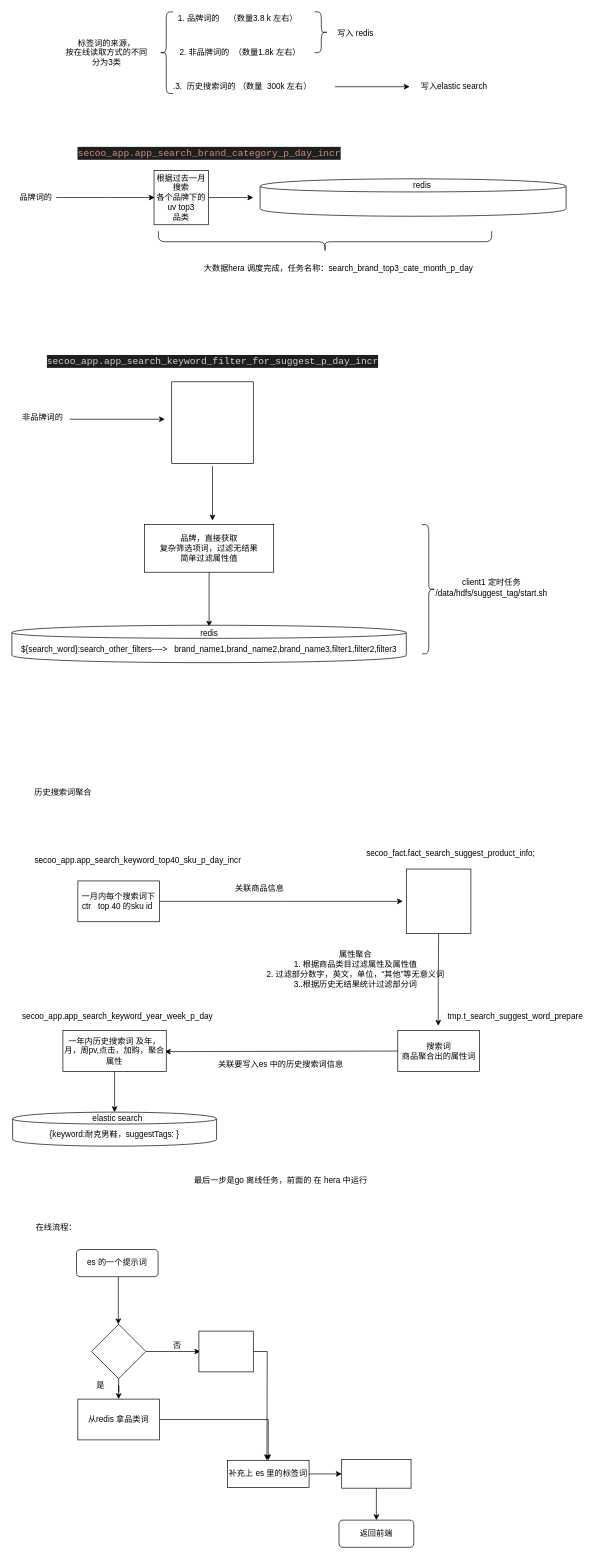
The diagram is 598 pixels wide and 1559 high, and some of its shapes have lost their labels. The box of each missing label's shape, as (x1, y1, x2, y2) in pixels:
${brand_id}:search_brand_filter ----> cat_name1,cat_name2,cat_name3: (259, 178, 566, 216)
从 redis 中拿品牌或筛选项: (198, 1330, 253, 1372)
取前3个: (341, 1459, 411, 1488)
搜索词 近40个商品信息 ctr 排行: (406, 868, 471, 934)
是品牌词: (91, 1324, 146, 1379)
过去15天内 复杂筛选项pv >1 搜索词 的 品牌 及 复杂筛选属性对: (171, 381, 253, 463)
